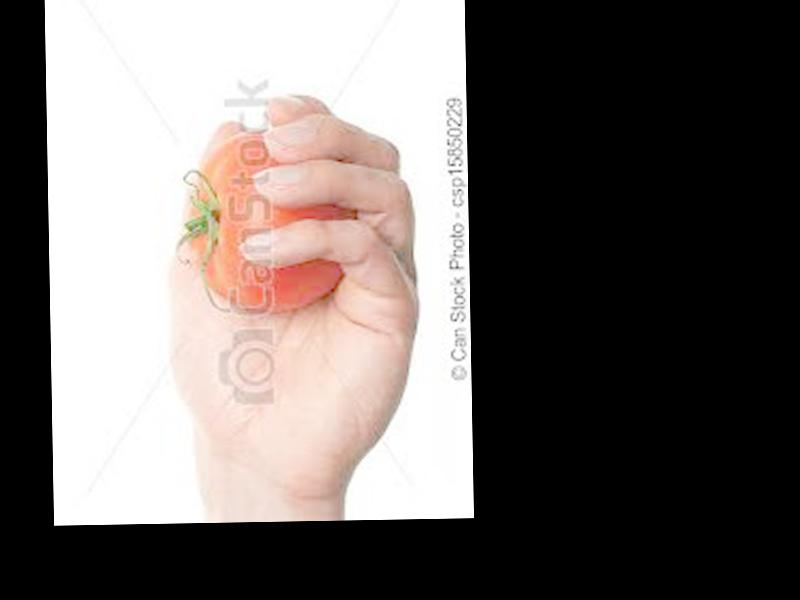Tomato: (187, 129, 352, 308)
